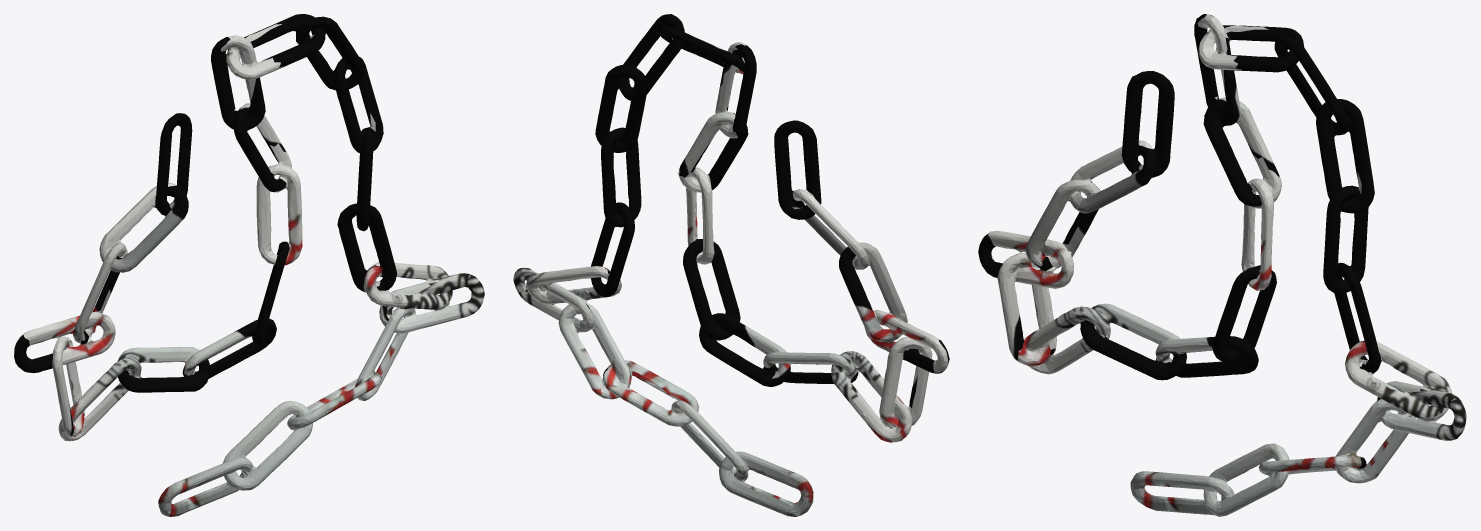
3 renders of one model, left to right at view 1: azimuth 30°, elevation 25°; view 2: azimuth 150°, elevation 25°; view 3: azimuth 330°, elevation 25°, orthographic. The views are drawn at different scales.
Parts seen in each view (by area): view 1: node; view 2: node; view 3: node.
Boxes of the visible parts, x1,y1,x2,y2 form: node: [14, 14, 484, 516]; node: [513, 14, 949, 516]; node: [978, 14, 1466, 516].
Bounding box in the file's own units: 0.3103 × 0.3072 × 0.0248.
